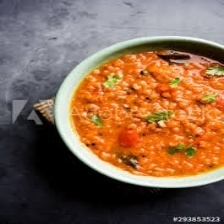dal: (68, 47, 224, 178)
